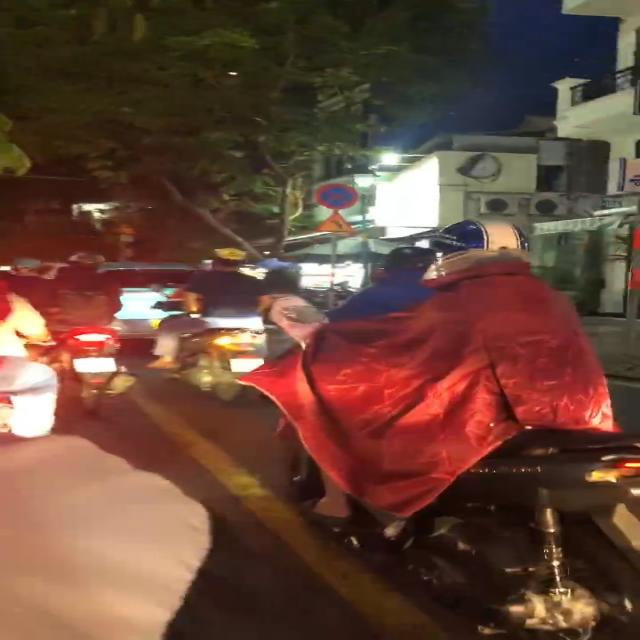Bien bao cam dung xe va do xe: (312, 181, 361, 210)
Bien bao cho ngoat nguy hiem: (307, 209, 361, 236)
